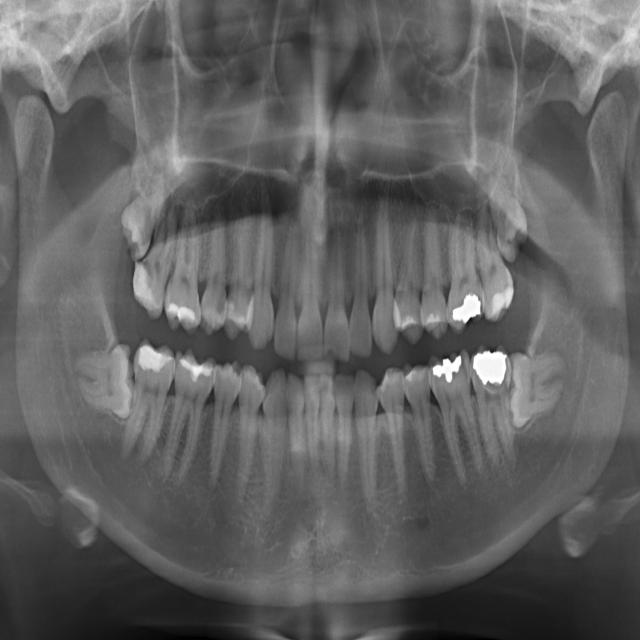AmalgamRestoration: (474, 346, 506, 392), (449, 294, 480, 326), (433, 355, 462, 382)
CompositeResinRestoration: (134, 341, 165, 372), (490, 284, 517, 318), (181, 356, 210, 385), (132, 266, 148, 302), (226, 294, 235, 326)
DentalCaries: (215, 295, 226, 324), (146, 257, 157, 282), (478, 281, 486, 312), (461, 354, 468, 389)
ImpactedTooth: (64, 335, 134, 417), (510, 349, 570, 433), (120, 162, 166, 257), (494, 180, 534, 264)
